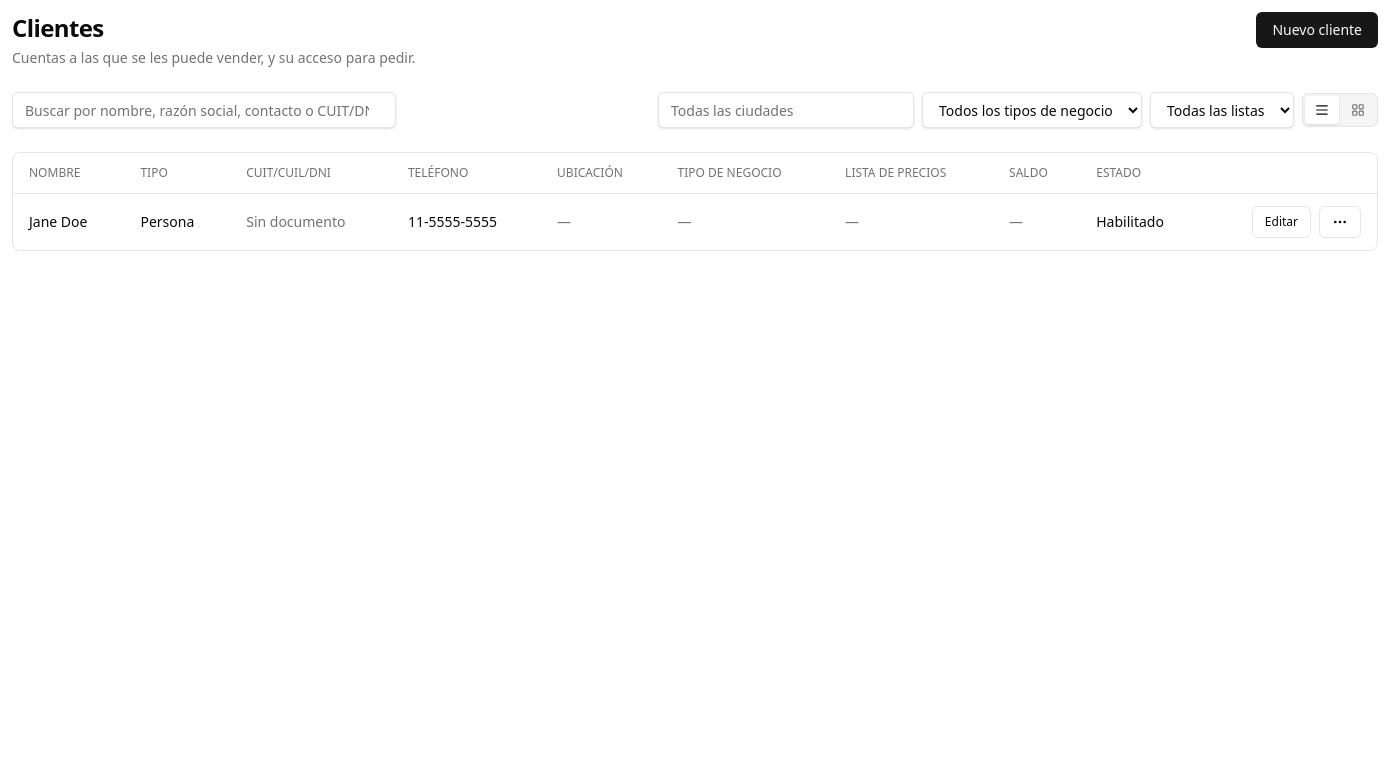
Test: CustomersScreen › opens the edit form for a listed customer
Expected: the text "Jane Doe" is shown, x1=13 y1=194 x2=124 y2=250
Click the button "Editar".
click(1281, 222)  # box x1=1252 y1=206 x2=1311 y2=238
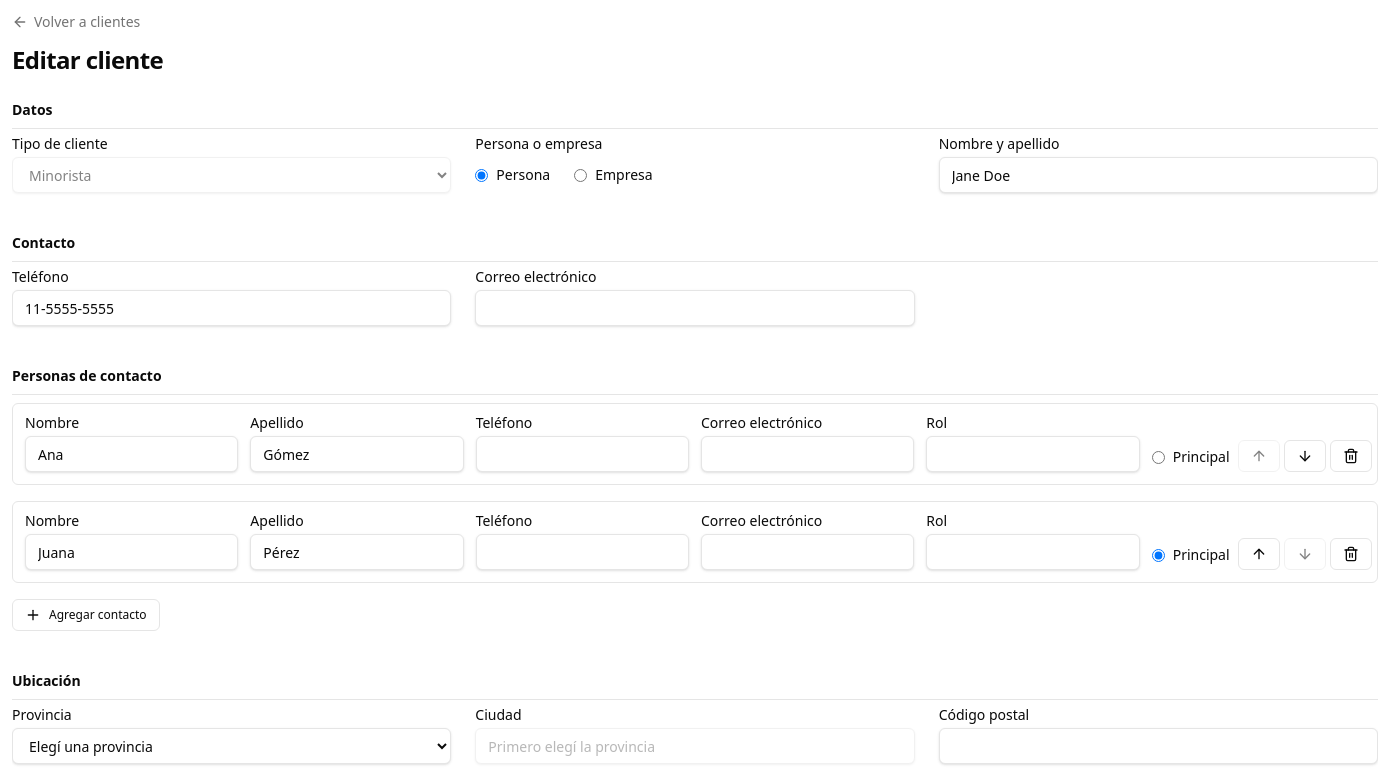
Now the heading "Editar cliente" is shown, box x1=12 y1=43 x2=163 y2=76
Now the dropdown labelled "Tipo de cliente" is disabled, box x1=12 y1=157 x2=451 y2=193
